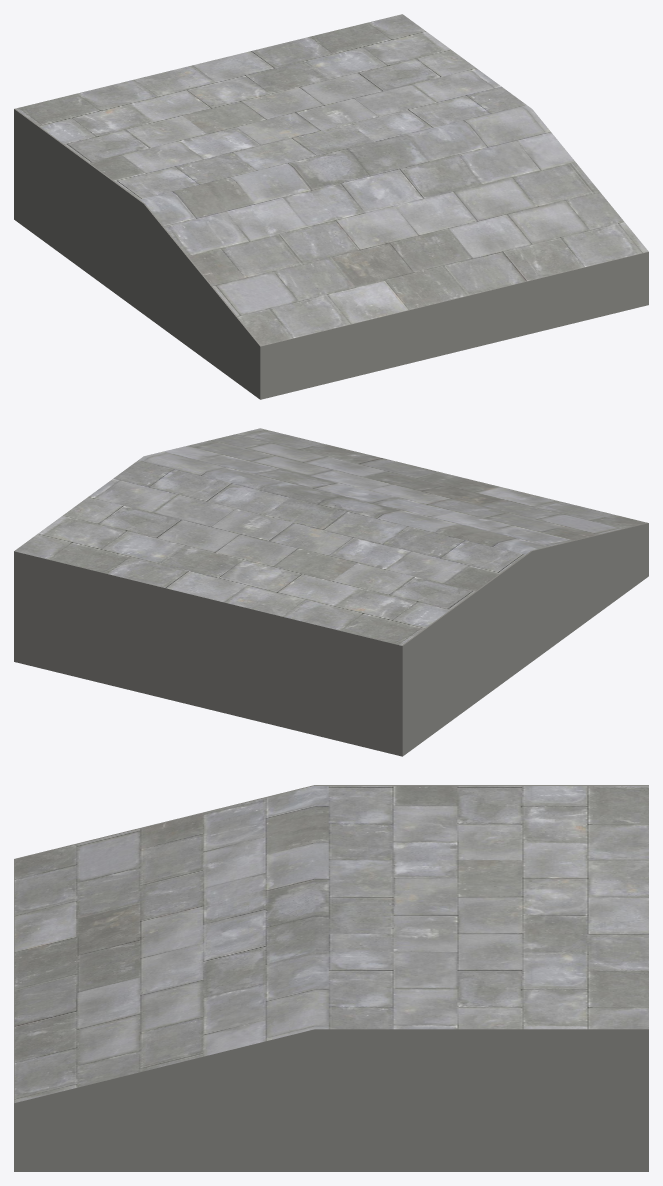
File: ajou_road_1.gltf
3 views of the same model, one above another, from view 1: azimuth 30°, elevation 25°; view 2: azimuth 150°, elevation 25°; view 3: azimuth 270°, elevation 25° (orthographic). The views are drawn at different scales.
Visible parts, largest first — view 1: pCube5; view 2: pCube5; view 3: pCube5.
Boxes of the visible parts, x1=… form: pCube5: x1=14, y1=14, x2=648, y2=399; pCube5: x1=14, y1=428, x2=648, y2=756; pCube5: x1=14, y1=785, x2=648, y2=1171.
Bounding box in the file's own units: 7.97 × 2.17 × 8.75.
Materials: 1 (1 with a texture image).
